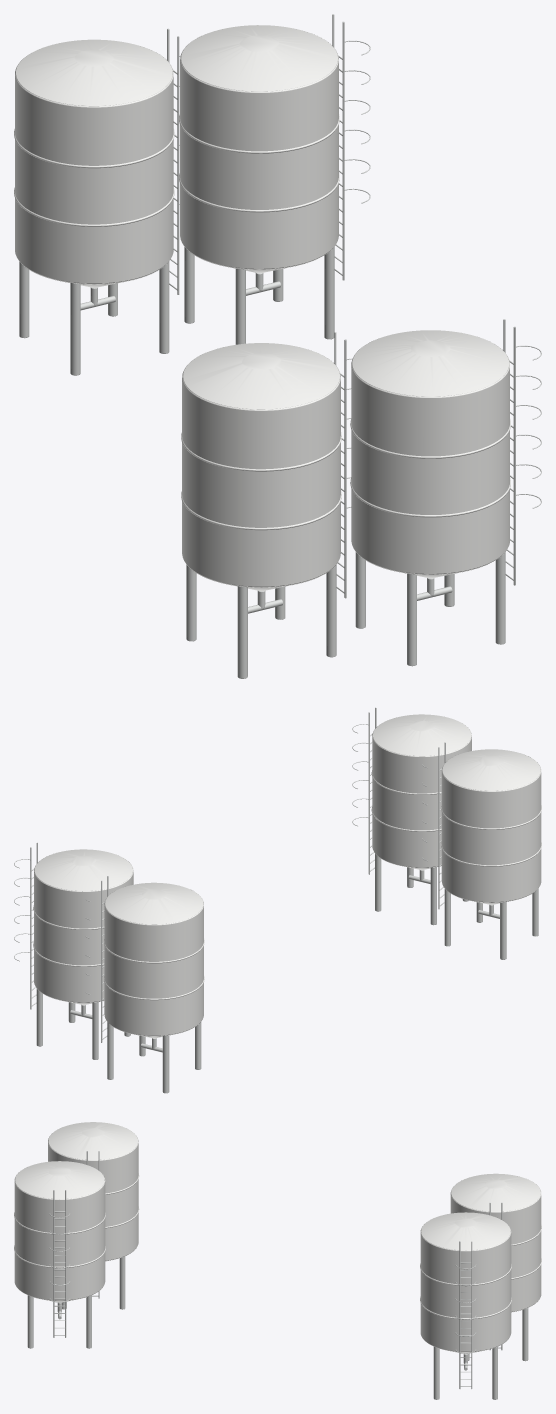
File: Cuves_blanches.glb
3 views of the same model, one above another, from view 1: azimuth 30°, elevation 25°; view 2: azimuth 150°, elevation 25°; view 3: azimuth 270°, elevation 25° (orthographic). The views are drawn at different scales.
Visible parts, largest first — view 1: Cuves_blanches_corps, Cuves_blanches_inox; view 2: Cuves_blanches_corps, Cuves_blanches_inox; view 3: Cuves_blanches_corps, Cuves_blanches_inox.
Boxes of the visible parts, bbox=[...] form: Cuves_blanches_corps: bbox=[14, 25, 510, 590]; Cuves_blanches_inox: bbox=[19, 14, 541, 678]; Cuves_blanches_corps: bbox=[33, 714, 541, 1038]; Cuves_blanches_inox: bbox=[14, 707, 538, 1093]; Cuves_blanches_corps: bbox=[14, 1122, 541, 1354]; Cuves_blanches_inox: bbox=[27, 1151, 528, 1399].
Bounding box in the file's own units: 12.42 × 6.9 × 19.78.
Materials: 2 (2 with a texture image).
